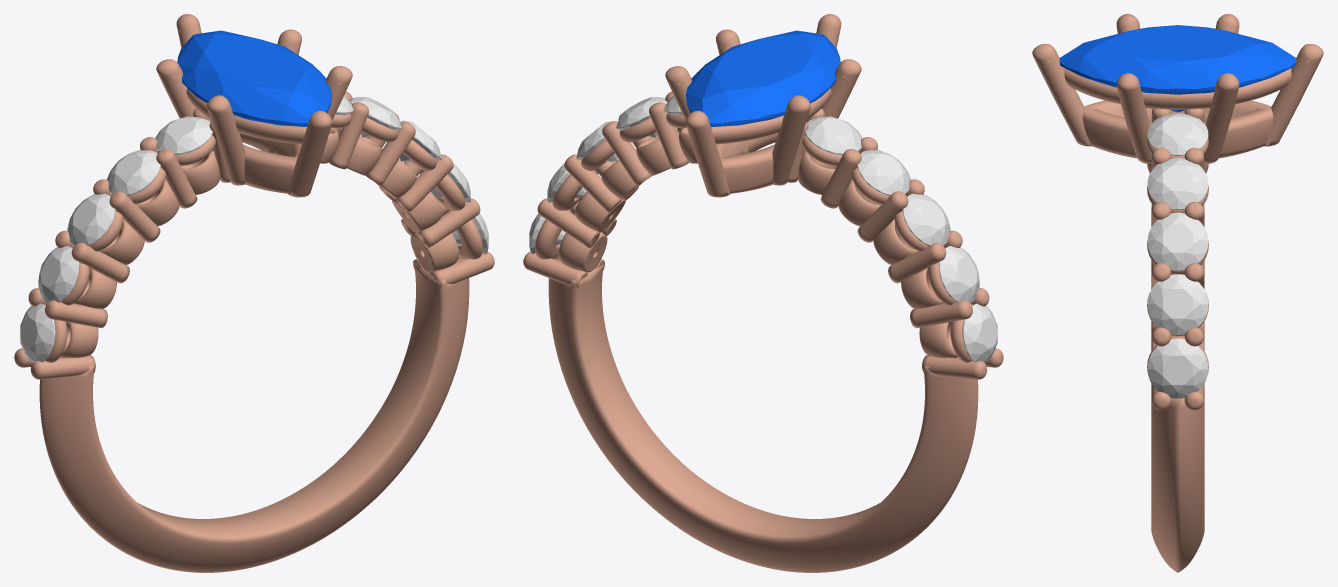
Rendered from bluesapphire-marquise-rosegold-6prong-knifeedge-11stone.glb.
The picture shows the model from 3 angles, left to right: view 1: azimuth 30°, elevation 25°; view 2: azimuth 150°, elevation 25°; view 3: azimuth 270°, elevation 25°; orthographic projection.
Visible parts, largest first — view 1: metal.001, stone.001, side.012, side.011, side.013, side.010, side.014, side.018; view 2: metal.001, stone.001, side.012, side.011, side.013, side.010, side.014, side.018; view 3: metal.001, stone.001, side.016, side.015, side.017, side.018, side.019.
Boxes of the visible parts, x1,y1,x2,y2 form: metal.001: (14,14,494,572); stone.001: (177,30,331,126); side.012: (67,193,115,245); side.011: (38,246,79,302); side.013: (107,150,160,195); side.010: (20,303,55,362); side.014: (155,116,212,154); side.018: (350,97,401,137); metal.001: (523,14,1003,572); stone.001: (686,30,840,126); side.012: (902,193,950,245); side.011: (938,246,979,302); side.013: (857,150,910,195); side.010: (962,303,997,362); side.014: (805,116,862,155); side.018: (616,97,667,137); metal.001: (1032,14,1323,572); stone.001: (1059,25,1296,112); side.016: (1147,274,1208,334); side.015: (1147,338,1208,398); side.017: (1147,212,1208,270); side.018: (1147,158,1208,209); side.019: (1147,113,1208,155).
Size of the model in its own units: 21.88 by 22.93 by 11.96.
